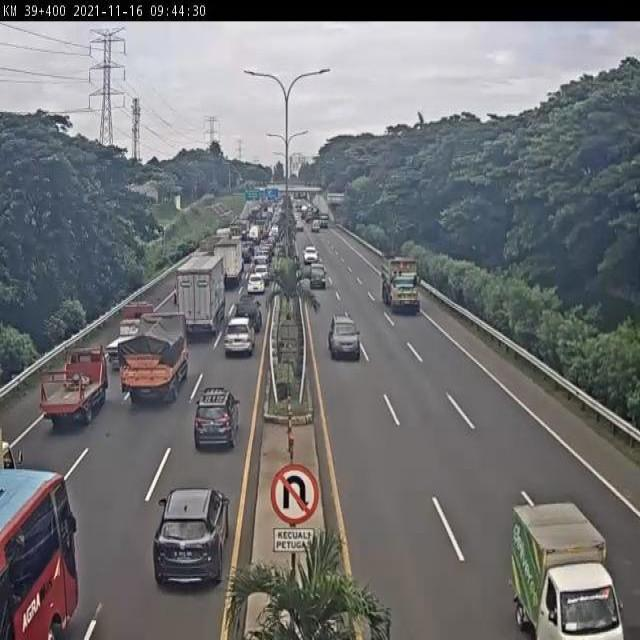car: (510, 501, 627, 640), (152, 487, 231, 588), (193, 385, 242, 448), (327, 313, 360, 359), (222, 316, 256, 356), (235, 296, 262, 332), (308, 264, 329, 291), (247, 274, 266, 294)
small truck: (41, 348, 108, 424), (106, 305, 159, 364)
truck-l-: (175, 256, 227, 337), (379, 259, 420, 312)
truck-m-: (119, 315, 188, 401), (212, 236, 244, 284)
